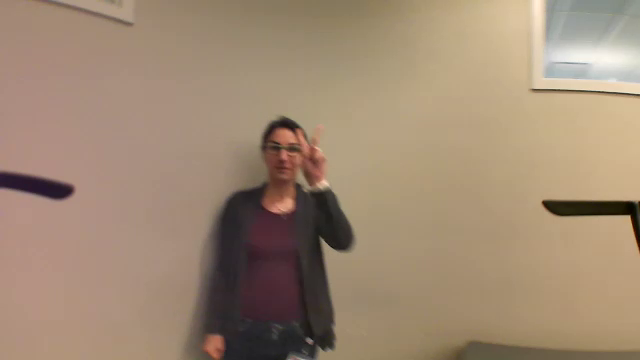peace: (290, 122, 330, 182)
